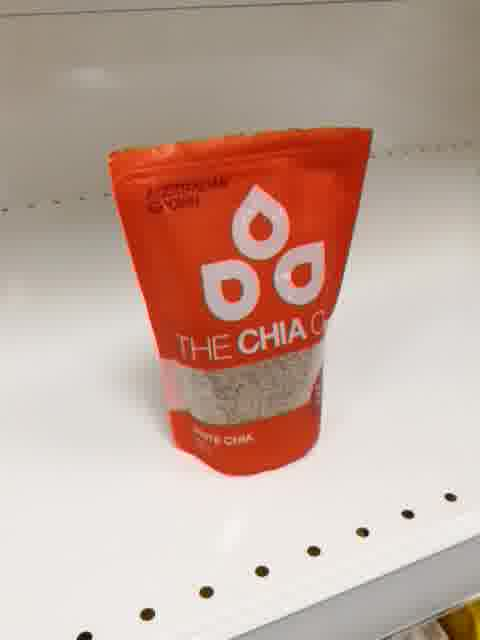whitechia: (105, 124, 376, 477)
